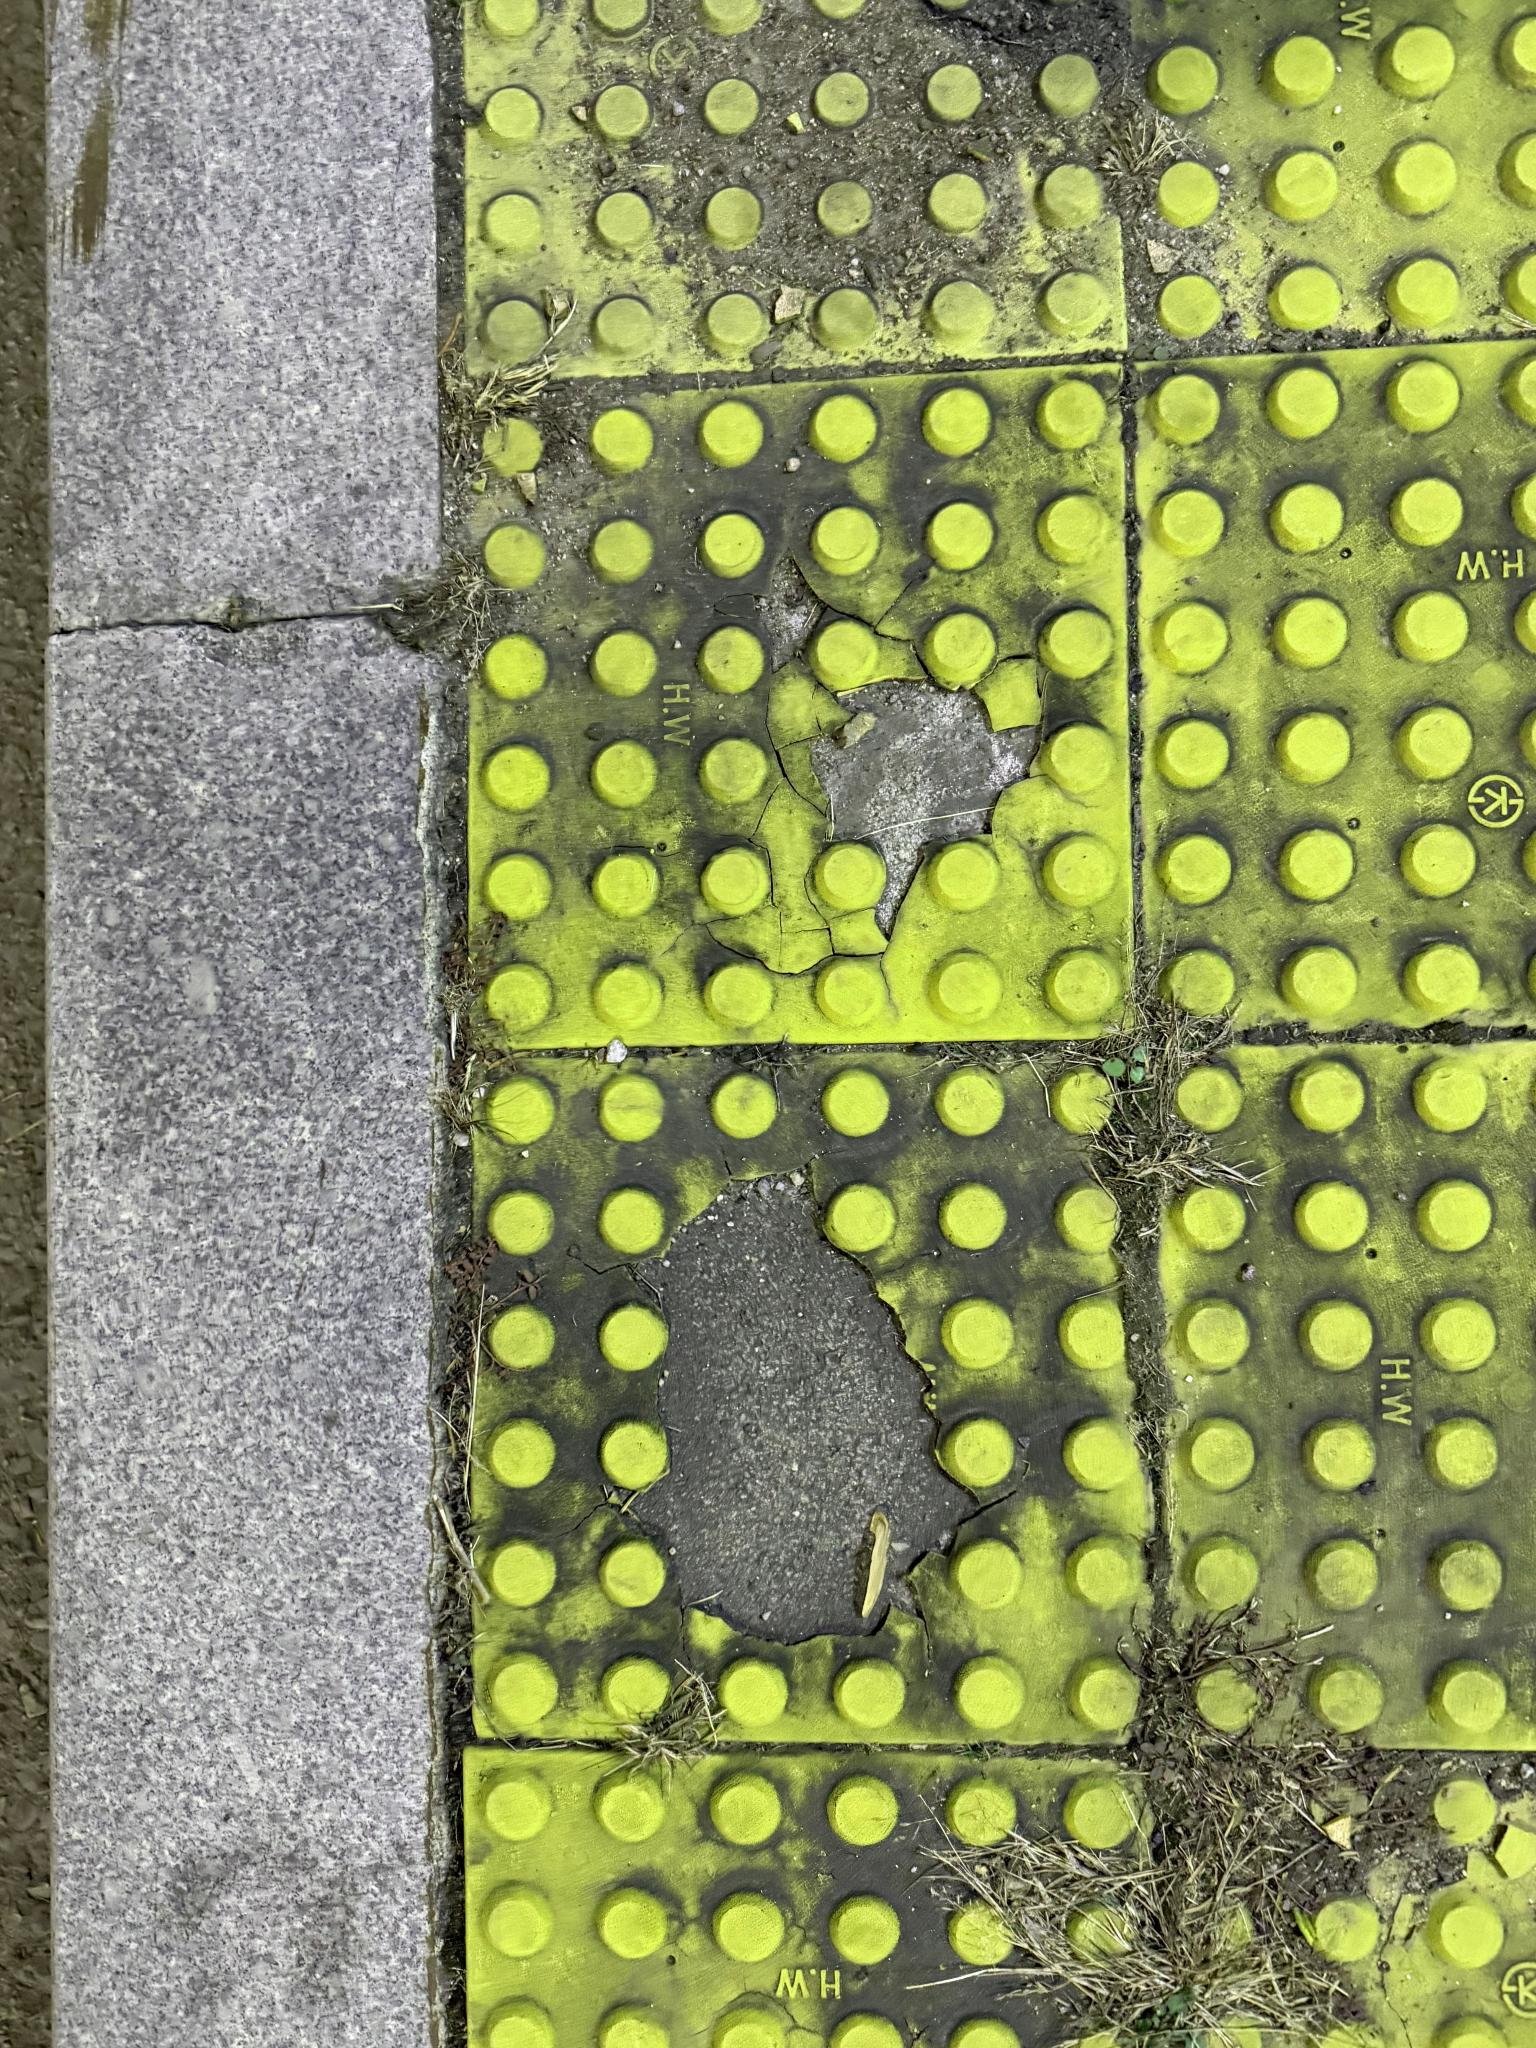Stop block broken: (473, 1063, 1141, 1738), (473, 395, 1129, 1035)
